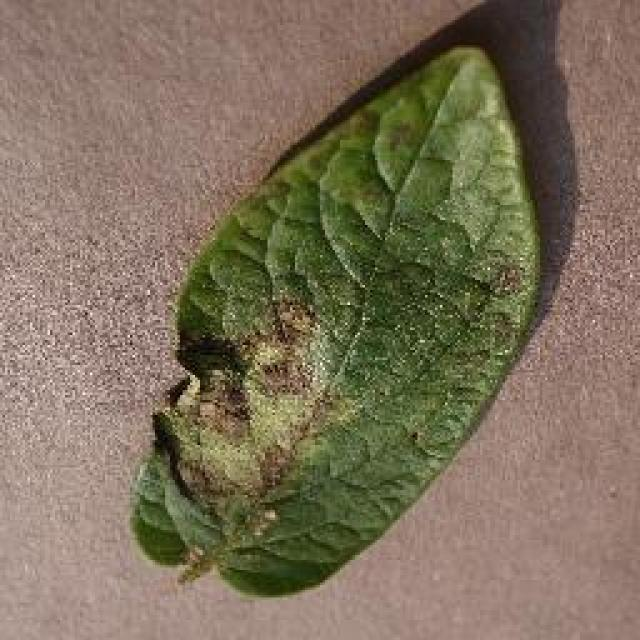late_blight: (125, 40, 547, 602)
